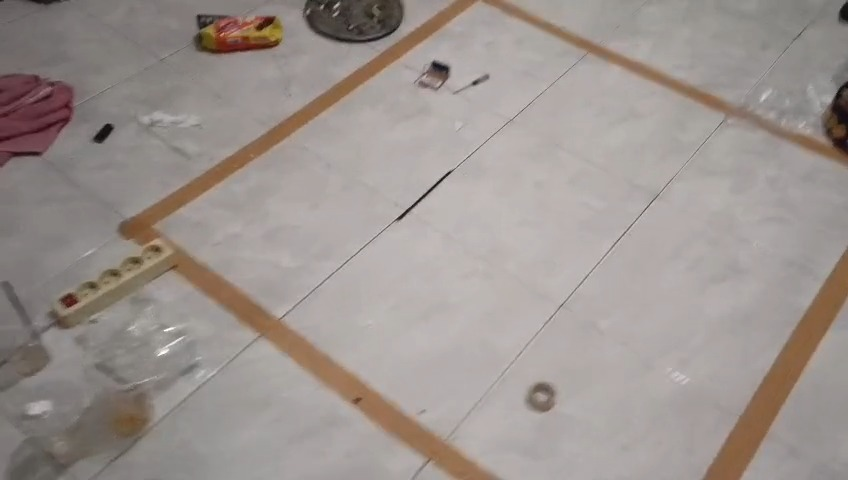floor marking: (119, 0, 482, 242), (176, 247, 493, 478), (485, 0, 847, 164), (703, 248, 847, 479)
